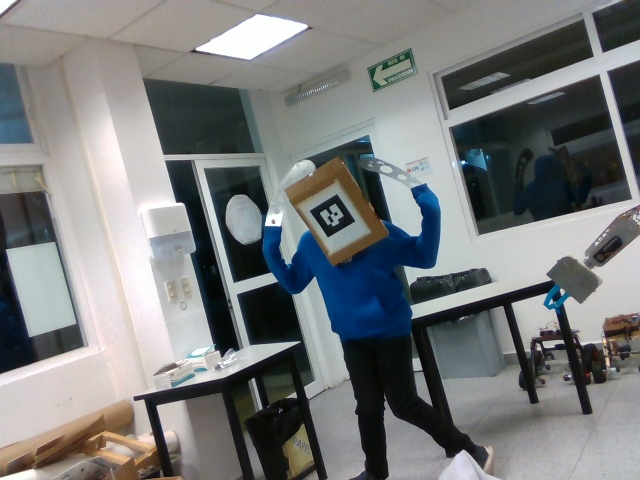ar3: (305, 193, 356, 244)
